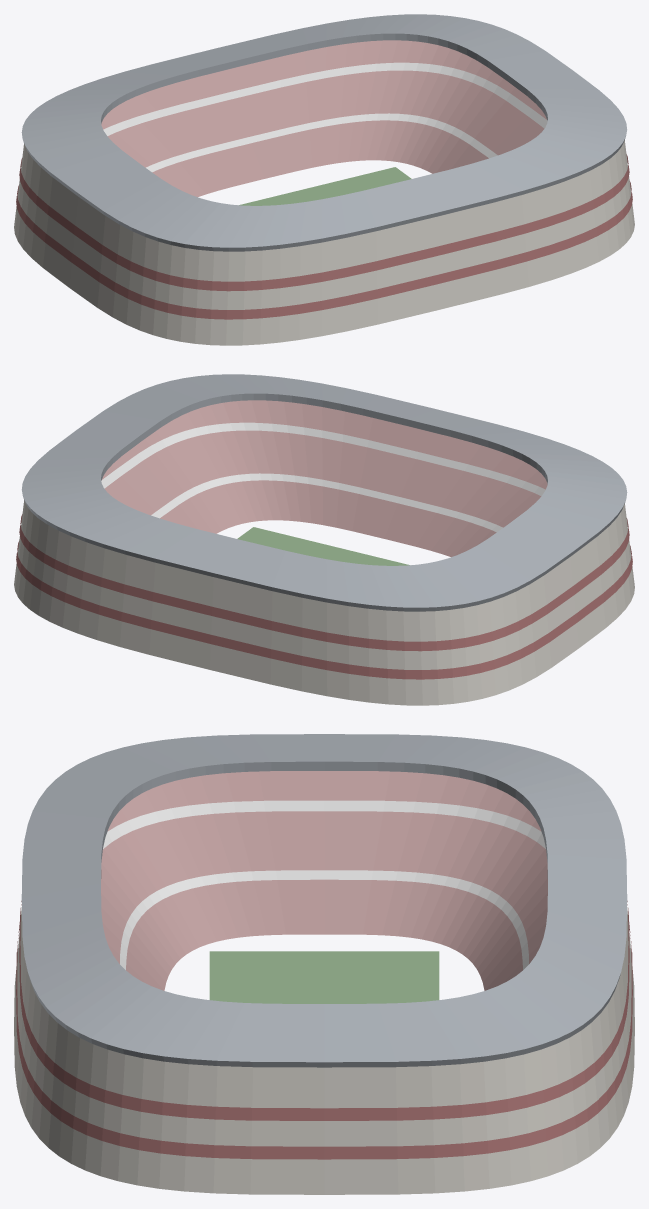
Rendered from metropolitano.glb.
The picture shows the model from 3 angles, top to bottom: view 1: azimuth 30°, elevation 25°; view 2: azimuth 150°, elevation 25°; view 3: azimuth 270°, elevation 25°; orthographic projection. The views are drawn at different scales.
Bounding box in the file's own units: 236 × 47 × 184.
